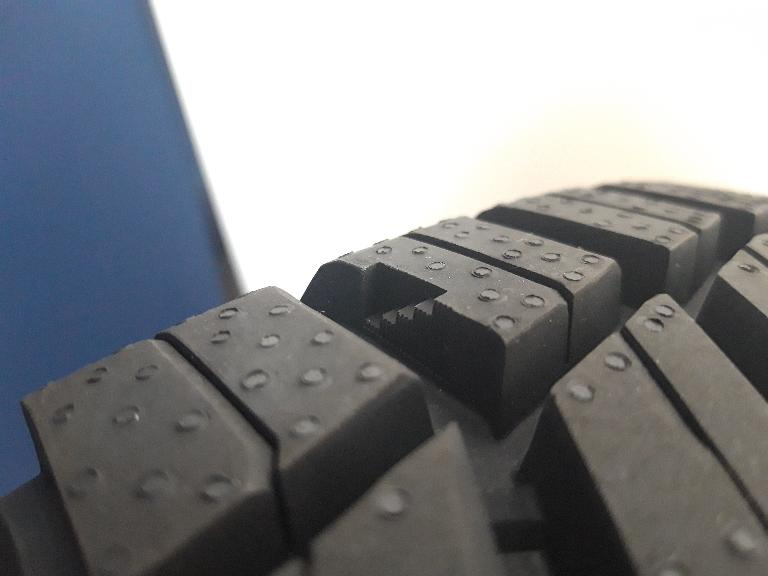temoin:100: (359, 260, 457, 387)
